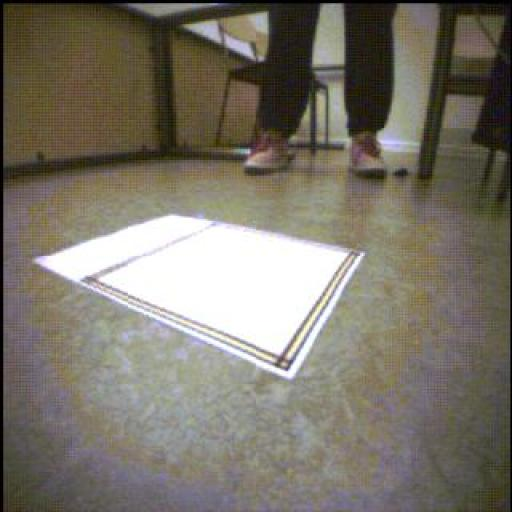Pad: (36, 216, 364, 381)
